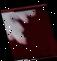dent: (0, 1, 57, 61)
